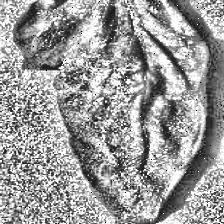spider mites: (15, 0, 207, 224)
